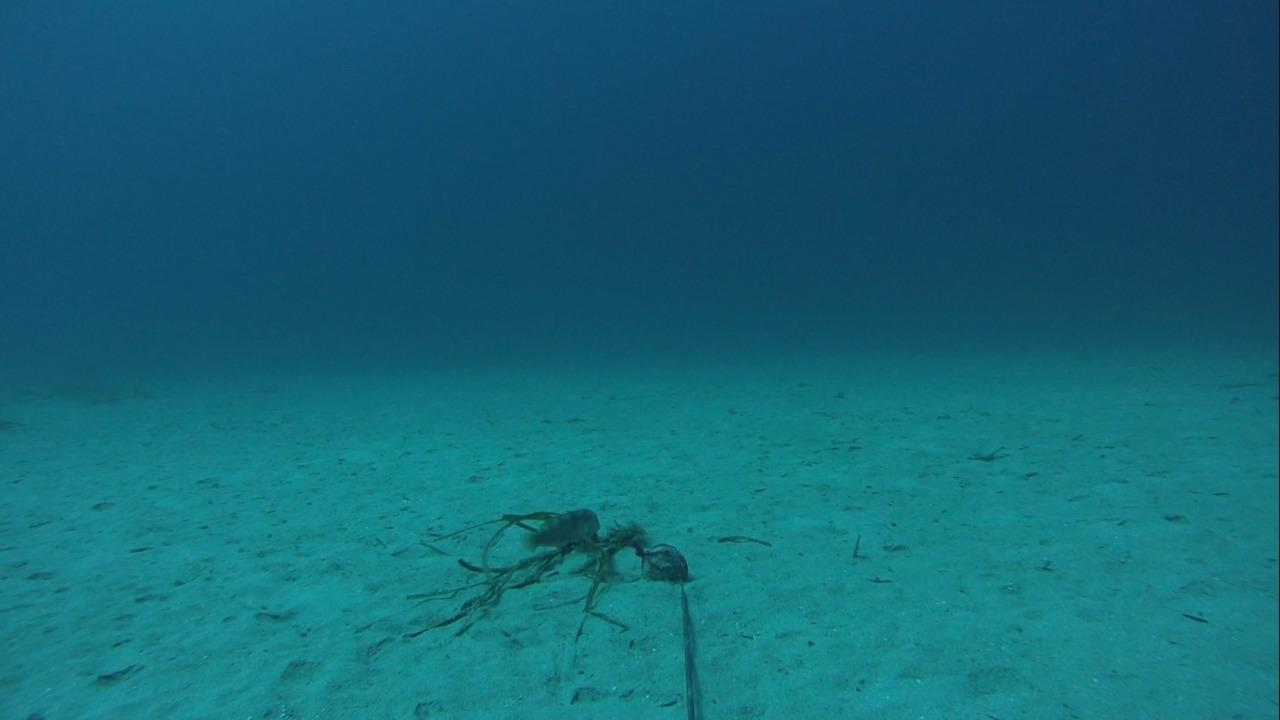raor: (520, 505, 604, 550)
